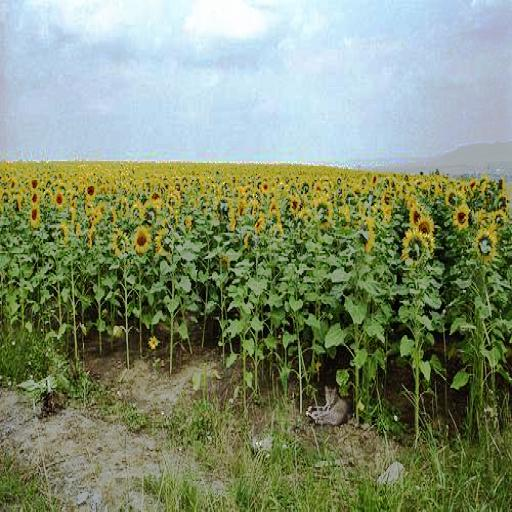sunflower: (401, 226, 424, 267), (476, 226, 498, 260), (313, 196, 332, 226), (416, 214, 435, 241), (133, 224, 150, 252), (111, 228, 128, 256), (453, 203, 470, 228), (26, 206, 40, 226), (52, 186, 64, 208), (84, 182, 98, 200), (289, 194, 299, 214)
